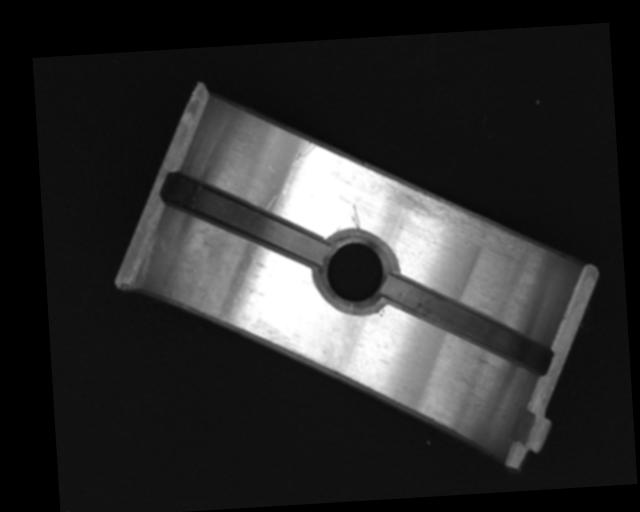gap: (383, 265, 554, 383), (162, 166, 325, 272)
hole: (314, 231, 396, 314)
nick: (279, 141, 318, 196), (350, 203, 361, 228)
scratch: (388, 171, 537, 268)
